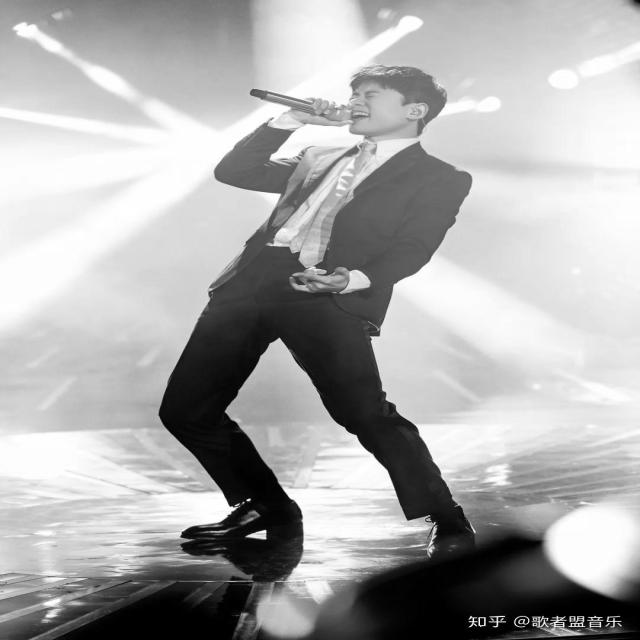stand: (173, 50, 478, 568)
